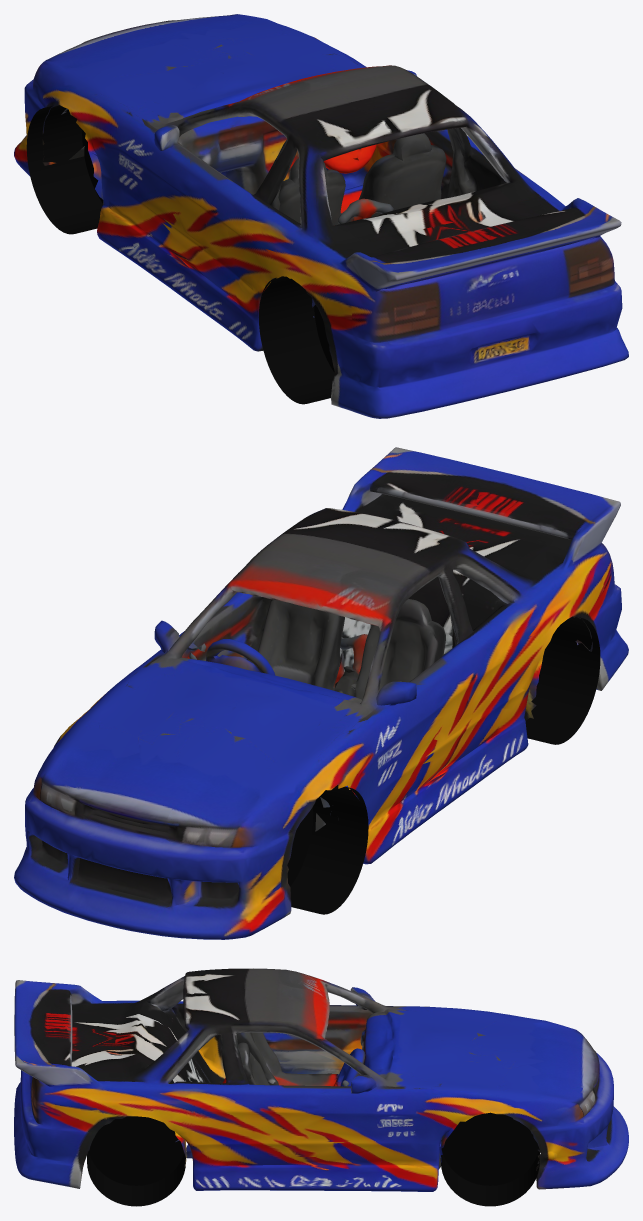
Rendered from ryu32_ai.glb.
3 views of the same model, one above another, from view 1: azimuth 30°, elevation 25°; view 2: azimuth 150°, elevation 25°; view 3: azimuth 270°, elevation 25° (orthographic). The views are drawn at different scales.
Parts seen in each view (by area): view 1: AI_Body; view 2: AI_Body; view 3: AI_Body.
Part boxes in pixels (x1,y1,x2,y2): AI_Body: (14, 14, 628, 418); AI_Body: (14, 447, 628, 939); AI_Body: (14, 968, 628, 1206).
Bounding box in the file's own units: 1.81 × 1.33 × 4.55.
Materials: 1 (1 with a texture image).
